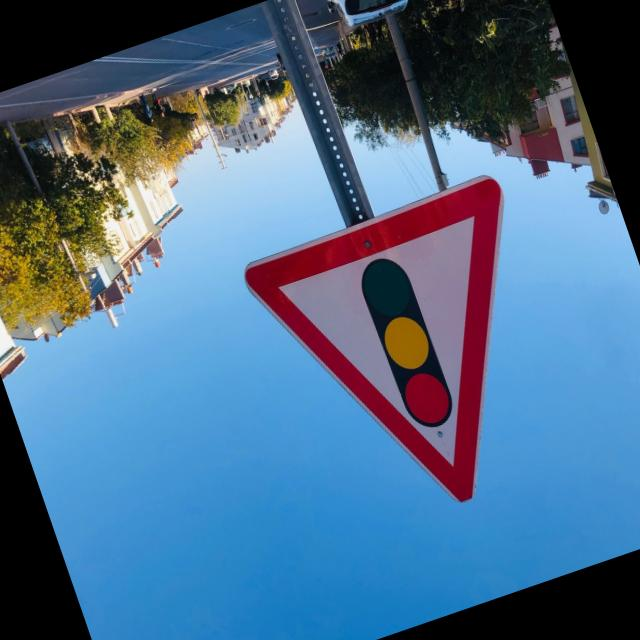light_traffic: (233, 163, 598, 554)
